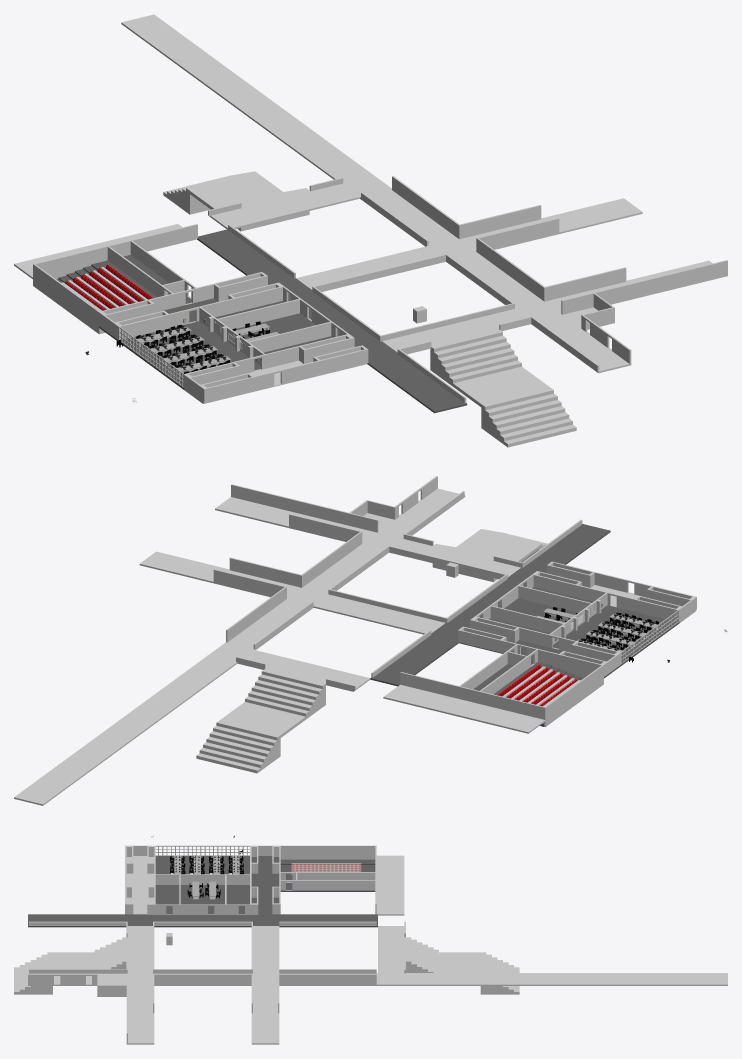
Rendered from dereks_lab.fbx.
3 renders of one model, top to bottom at view 1: azimuth 30°, elevation 25°; view 2: azimuth 150°, elevation 25°; view 3: azimuth 270°, elevation 25°, orthographic. The views are drawn at different scales.
Visible parts, largest first — view 1: corridor_floor.009, corridor_floor3-col, corridor_floor-col, stair1-col, stair2-col, corridor_floor.001, stair1-col.001, corridor_floor.007, corridor_floor5-col, corridor_floor.004, floor-col.002, back_wall.009 (+28 smaller); view 2: corridor_floor.009, corridor_floor3-col, corridor_floor-col, stair1-col.001, stair2-col.001, corridor_floor2-col.001, corridor_floor.004, stair1-col, corridor_floor.001, corridor_floor.007, floor-col.002, corridor_floor.006 (+31 smaller); view 3: corridor_floor.009, corridor_floor-col, stair1-col.001, corridor_floor3-col, floor-col.001, corridor_floor2-col.001, corridor_floor.007, stair1-col, corridor_floor.006, back_wall1-col.004, corridor_floor.001, corridor_floor.004 (+22 smaller).
Boxes of the visible parts, x1,y1,x2,y2 form: corridor_floor.009: (121,14,391,196); corridor_floor3-col: (360,189,631,373); corridor_floor-col: (197,229,467,413); stair1-col: (430,330,549,406); stair2-col: (481,387,576,447); corridor_floor.001: (209,184,359,229); stair1-col.001: (190,174,309,231); corridor_floor.007: (461,198,642,249); corridor_floor5-col: (382,309,531,354); corridor_floor.004: (296,246,445,291); floor-col.002: (118,321,260,389); back_wall.009: (561,292,631,363); corridor_floor.009: (14,643,253,805); corridor_floor3-col: (225,488,465,650); corridor_floor-col: (370,524,610,686); stair1-col.001: (220,669,325,737); stair2-col.001: (196,720,280,773); corridor_floor2-col.001: (383,684,545,733); corridor_floor.004: (313,594,445,634); stair1-col: (432,531,538,582); corridor_floor.001: (237,650,370,691); corridor_floor.007: (139,551,300,597); floor-col.002: (553,605,679,665); corridor_floor.006: (215,497,375,541); corridor_floor.009: (378,973,727,985); corridor_floor-col: (28,914,377,927); stair1-col.001: (405,937,480,972); corridor_floor3-col: (28,973,377,985); floor-col.001: (155,885,249,914); corridor_floor2-col.001: (376,855,404,915); corridor_floor.007: (251,984,279,1044); stair1-col: (53,937,127,969); corridor_floor.006: (126,984,154,1044); back_wall1-col.004: (280,845,375,859); corridor_floor.001: (378,926,405,972); corridor_floor.004: (253,926,279,972).
Bounding box in the file's own units: 35205 × 3400 × 51400.
